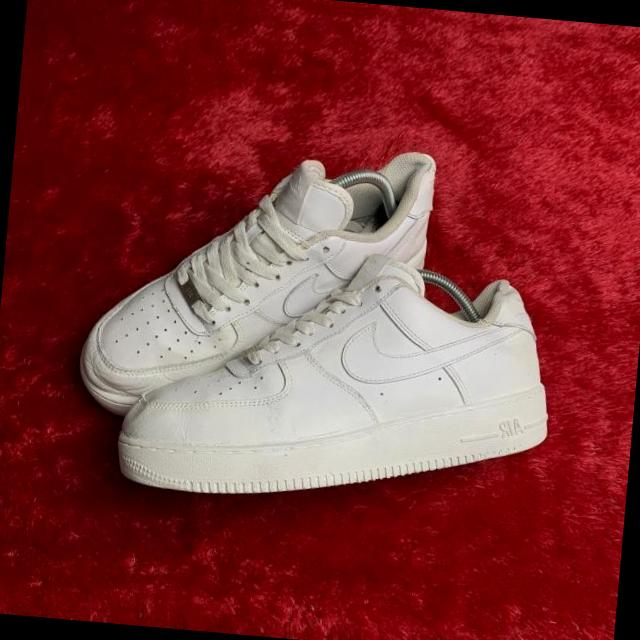nike_fake_airforce: (108, 245, 570, 528), (70, 126, 450, 438)
